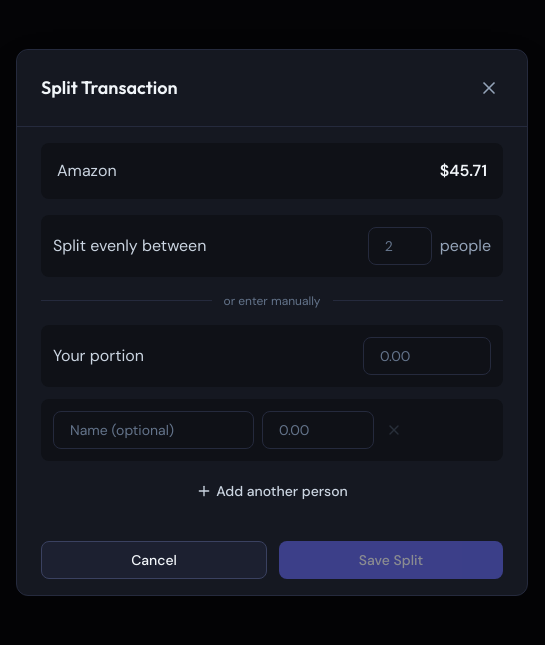
Scenario: SplitTransactionModal — new split with multiple named people › splitting evenly between N fills your portion and N-1 person rows
Type "3" into the number field with placeholder "2".
click(400, 246); type("3")  # box [368, 226, 432, 264]
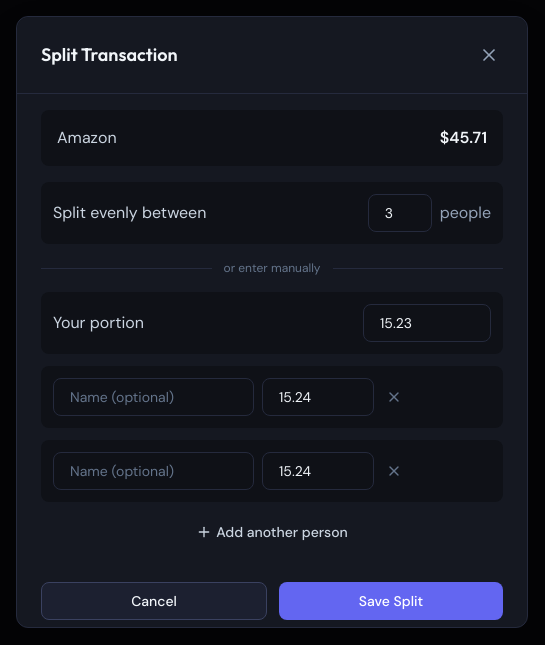
Now the number of number fields with placeholder "0.00" is 3, box [363, 304, 491, 342]; [262, 378, 374, 416]; [262, 452, 374, 490]
Now the 3rd number field with placeholder "0.00" holds "15.24", box [262, 378, 374, 416]
Now the 4th number field with placeholder "0.00" holds "15.24", box [262, 452, 374, 490]
